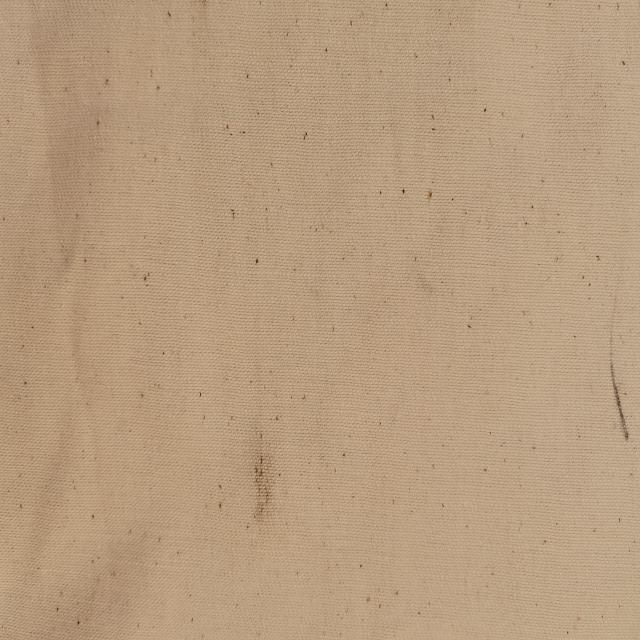taaaches: (604, 287, 639, 448), (243, 424, 282, 535)
